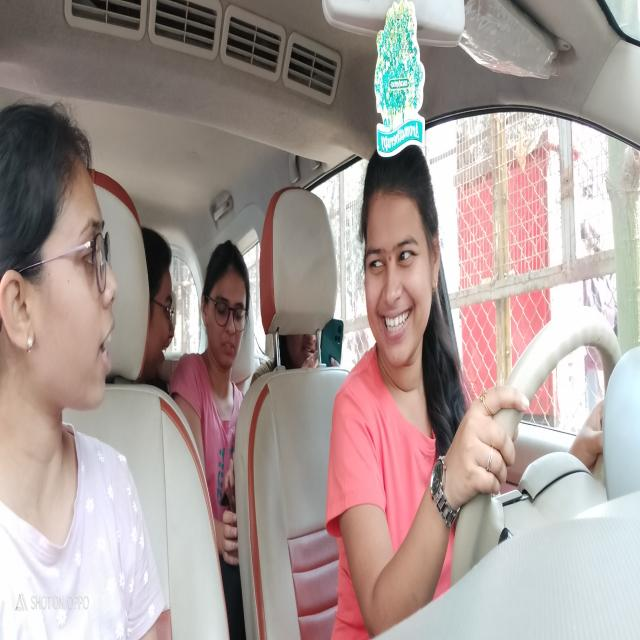LeftRight: (359, 134, 443, 379)
person: (0, 98, 119, 420), (200, 240, 253, 379), (141, 219, 180, 385), (282, 328, 320, 369)
talking: (96, 319, 119, 377), (380, 307, 414, 337)
